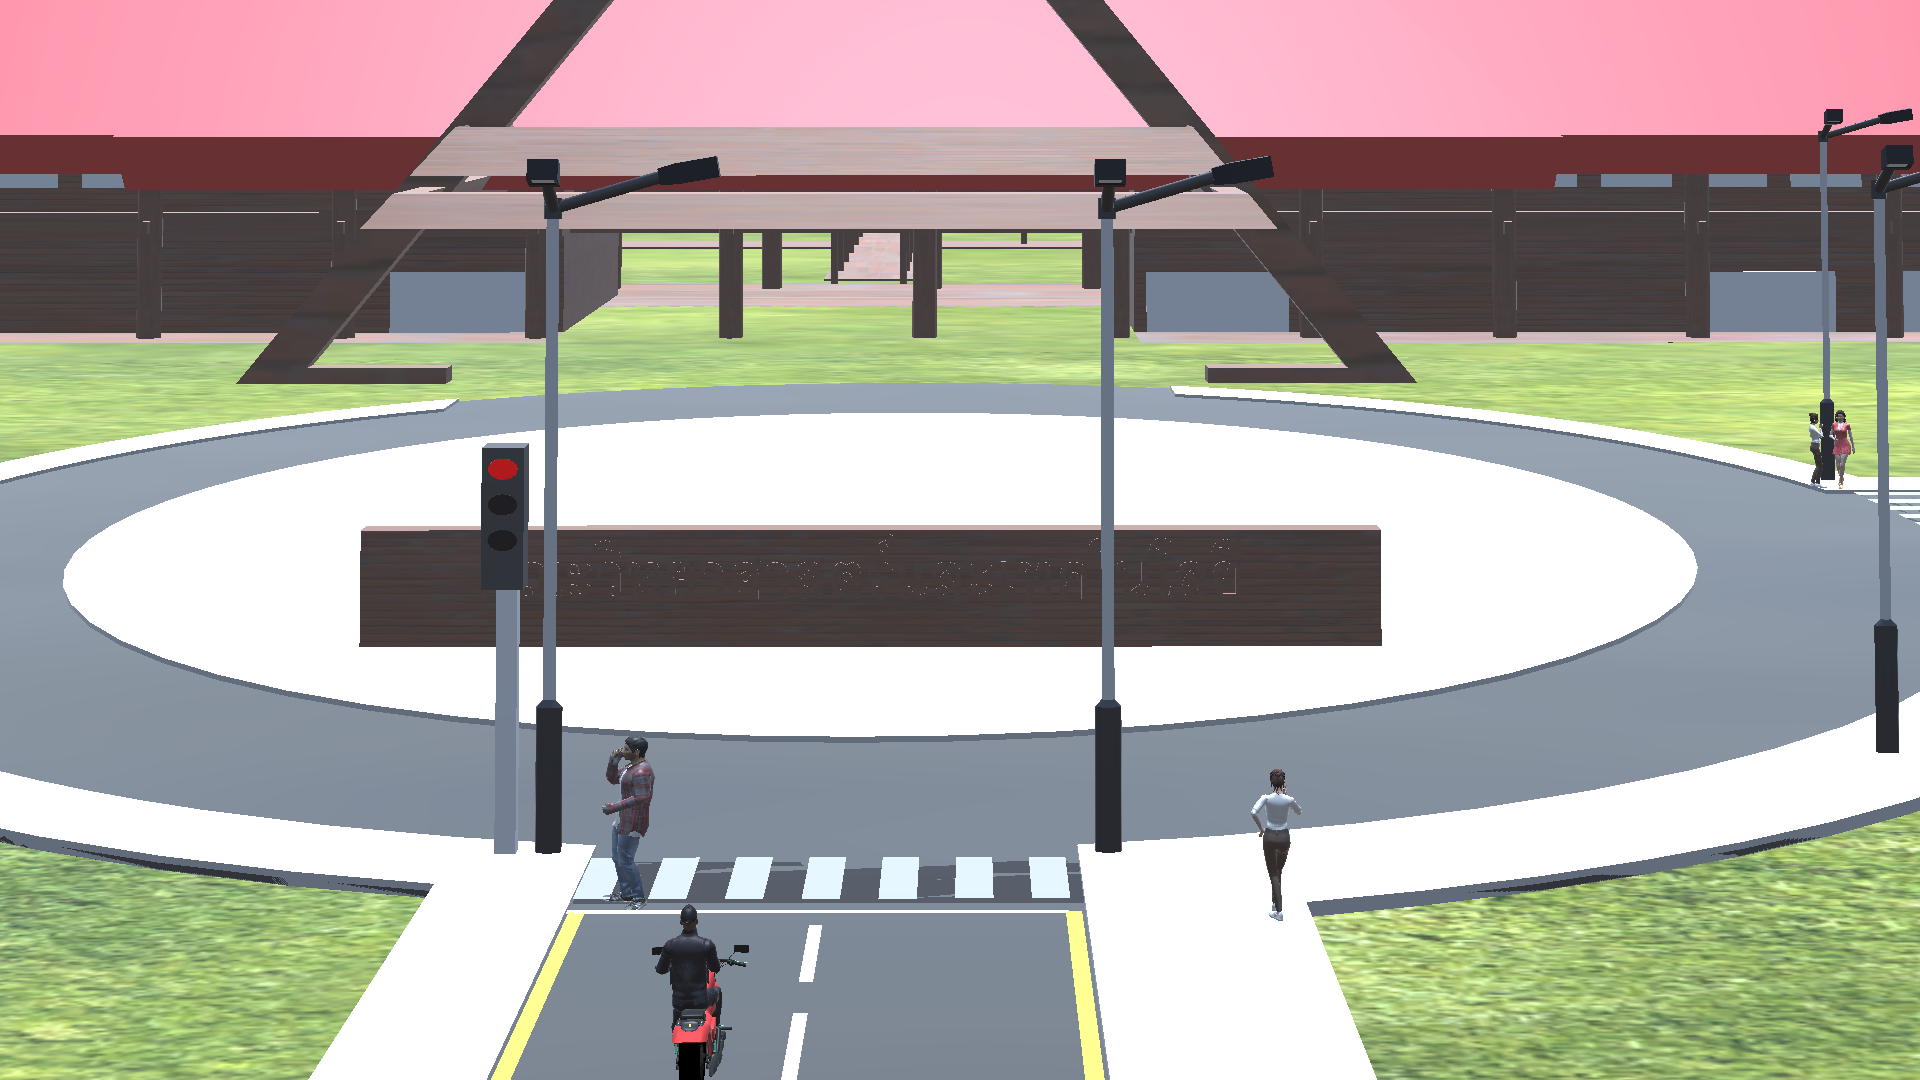pedestrian: (593, 730, 660, 908), (1244, 763, 1300, 926), (1827, 407, 1858, 487), (1803, 410, 1826, 489)
